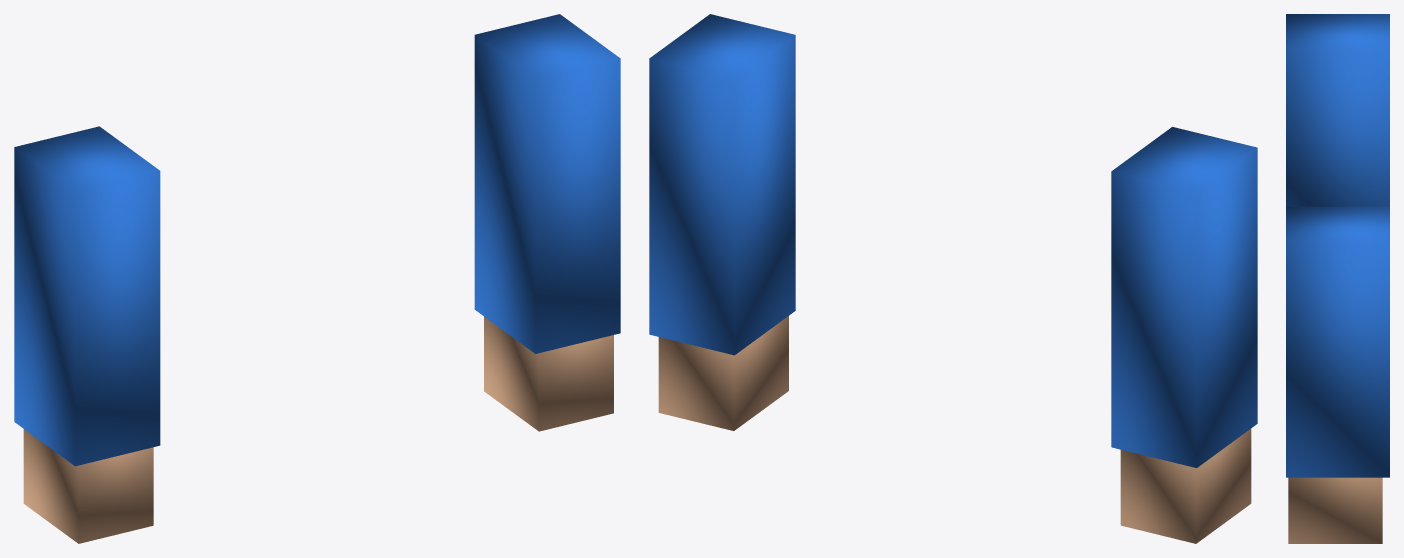
File: skomma_hand_05.glb
The picture shows the model from 3 angles, left to right: view 1: azimuth 30°, elevation 25°; view 2: azimuth 150°, elevation 25°; view 3: azimuth 270°, elevation 25°; orthographic projection. The views are drawn at different scales.
Parts seen in each view (by area): view 1: Left_Arm, Right_Arm, Left_Hand, Right_Hand; view 2: Right_Arm, Left_Arm, Left_Hand, Right_Hand; view 3: Right_Arm, Left_Arm, Right_Hand.
Boxes of the visible parts, <box> form: Left_Arm: <box>14,126,160,466</box>; Right_Arm: <box>474,14,620,353</box>; Left_Hand: <box>23,429,153,543</box>; Right_Hand: <box>484,316,613,431</box>; Right_Arm: <box>649,14,795,355</box>; Left_Arm: <box>1111,127,1257,467</box>; Left_Hand: <box>1120,428,1251,543</box>; Right_Hand: <box>658,316,788,430</box>; Right_Arm: <box>1286,206,1389,477</box>; Left_Arm: <box>1286,14,1389,206</box>; Right_Hand: <box>1288,477,1382,543</box>.
Bounding box in the file's own units: 2.18 × 1.35 × 0.42.
